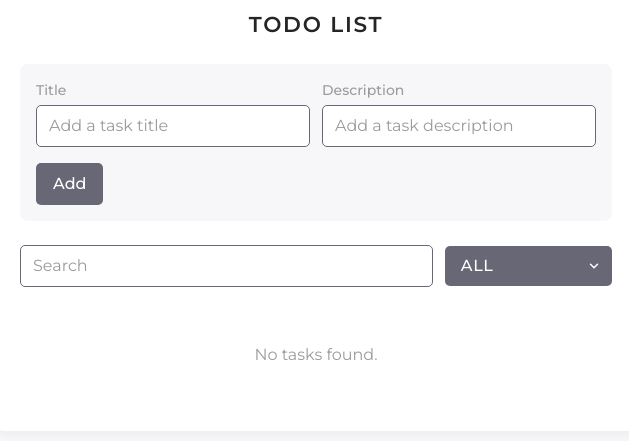
Test: App › filters tasks by search query in title
Type "Buy breakfast" into the field labelled "Title" at (173, 126), box [36,105,310,147]
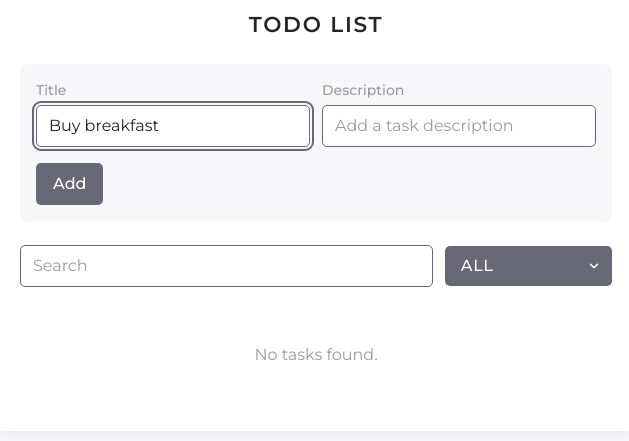
Click the button "Add" at (70, 184), box [36,163,104,205]
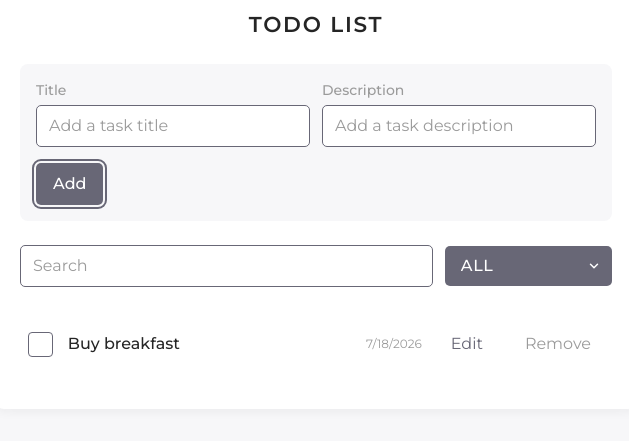
Type "Walk the dog" into the field labelled "Title" at (173, 126), box [36,105,310,147]
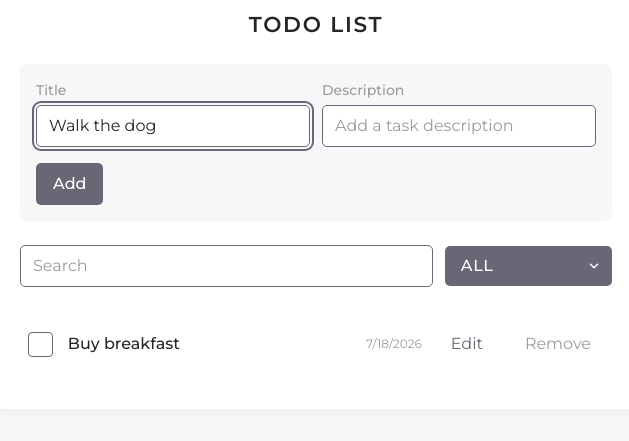
Click the button "Add" at (70, 184), box [36,163,104,205]
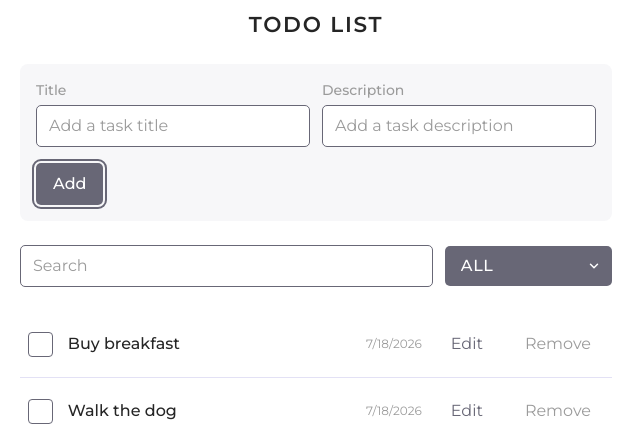
Type "dog" into the search field named "Search todos" at (226, 266), box [20,245,433,287]
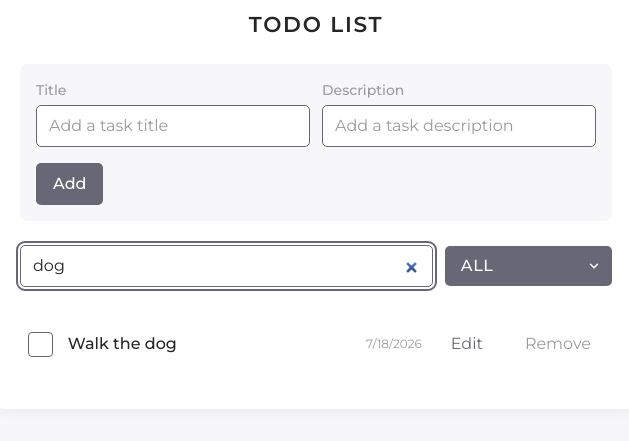
Expected: the text "Walk the dog" is shown, [68,334,177,353]
Expected: the text "Buy breakfast" is gone
